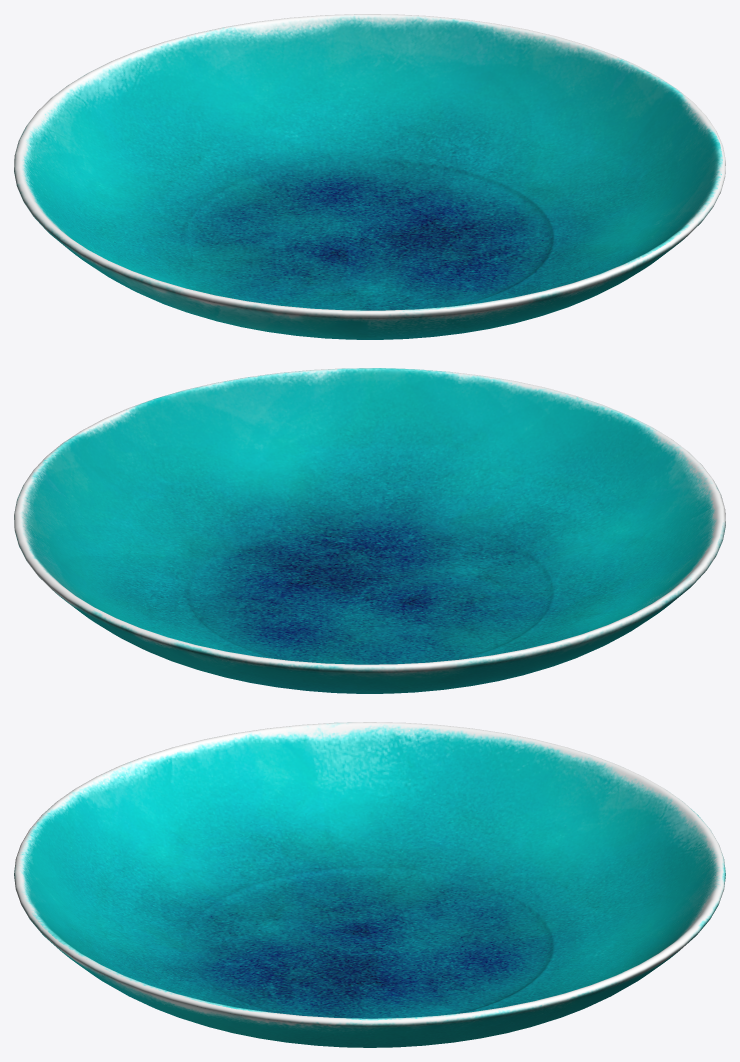
Rendered from plate.obj.
3 views of the same model, one above another, from view 1: azimuth 30°, elevation 25°; view 2: azimuth 150°, elevation 25°; view 3: azimuth 270°, elevation 25° (orthographic).
Parts seen in each view (by area): view 1: obj3; view 2: obj3; view 3: obj3.
Part boxes in pixels (x1,y1,x2,y2): obj3: (14, 14, 725, 339); obj3: (14, 368, 725, 693); obj3: (14, 722, 725, 1047).
Bounding box in the file's own units: 115 × 15.36 × 115.
1 material, 1 textured.
